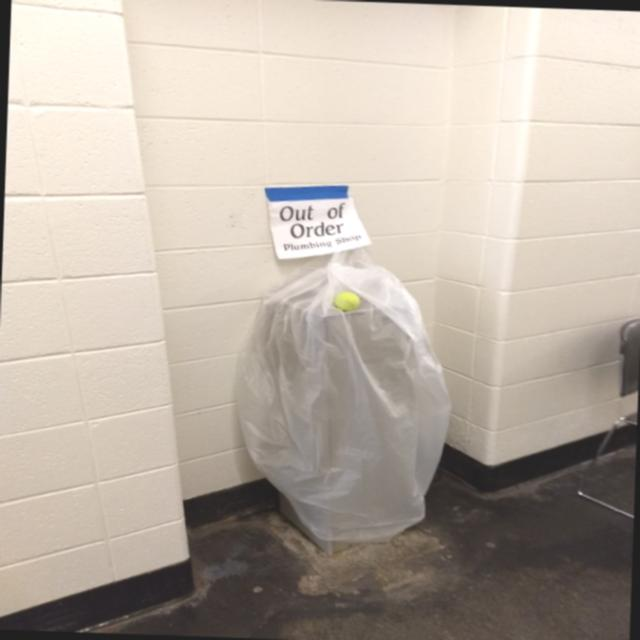tennis-ball: (334, 288, 362, 312)
